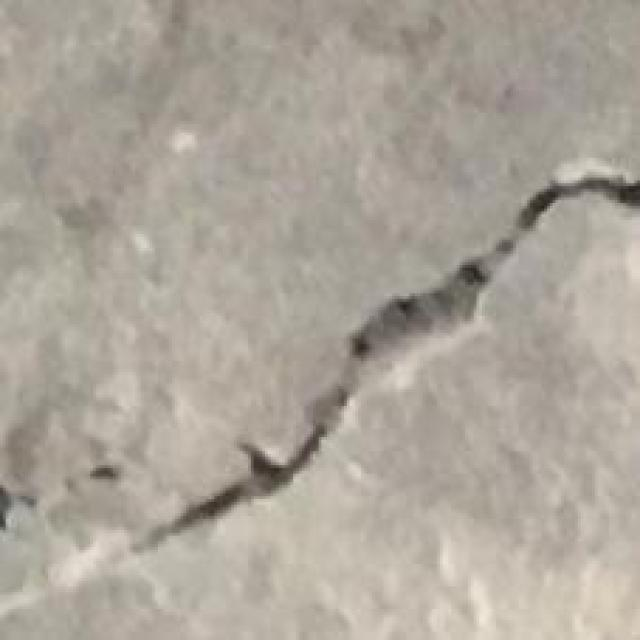Crack: (127, 166, 637, 553), (0, 479, 37, 533)
